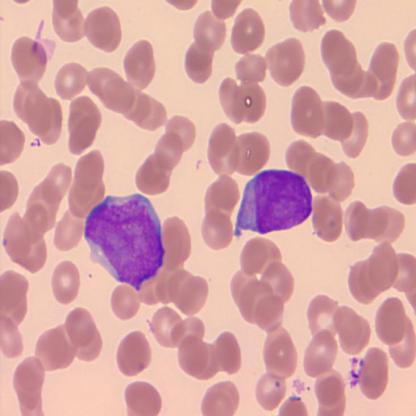Blast: (81, 193, 167, 294), (232, 167, 314, 240)
